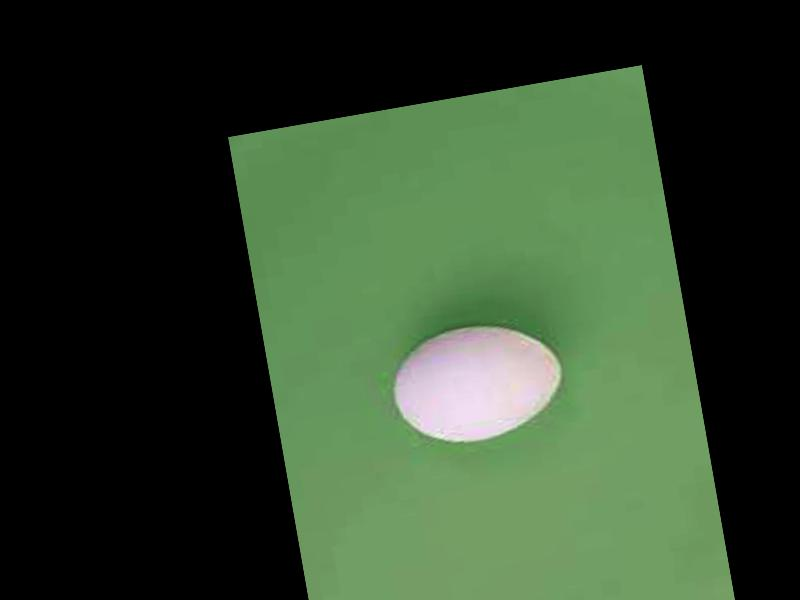Eggs: (382, 311, 570, 453)
